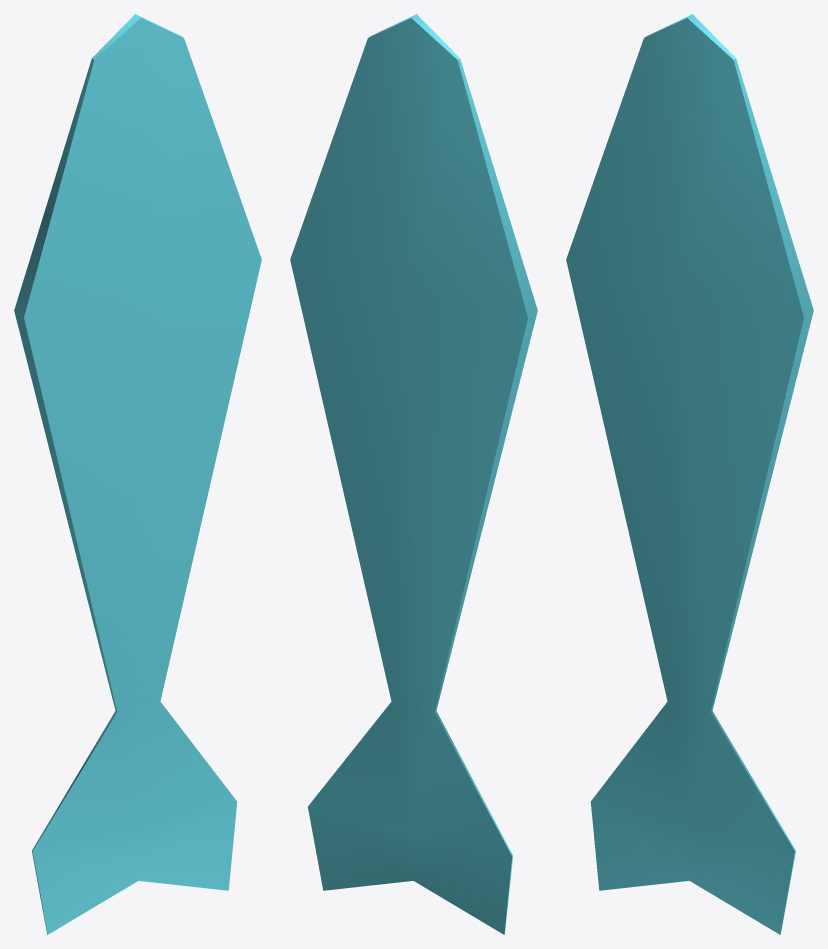
The model's file is Fish1.fbx.
The picture shows the model from 3 angles, left to right: view 1: azimuth 30°, elevation 25°; view 2: azimuth 150°, elevation 25°; view 3: azimuth 330°, elevation 25°; orthographic projection.
Parts seen in each view (by area): view 1: Fish1; view 2: Fish1; view 3: Fish1.
Part boxes in pixels (x1,y1,x2,y2): Fish1: (14,14,261,934); Fish1: (290,14,537,934); Fish1: (566,14,813,934).
Bounding box in the file's own units: 7.72 × 27.81 × 1.32.
